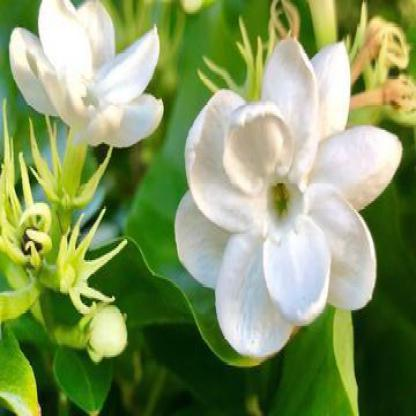Melati: (204, 70, 372, 332), (18, 1, 168, 150)
